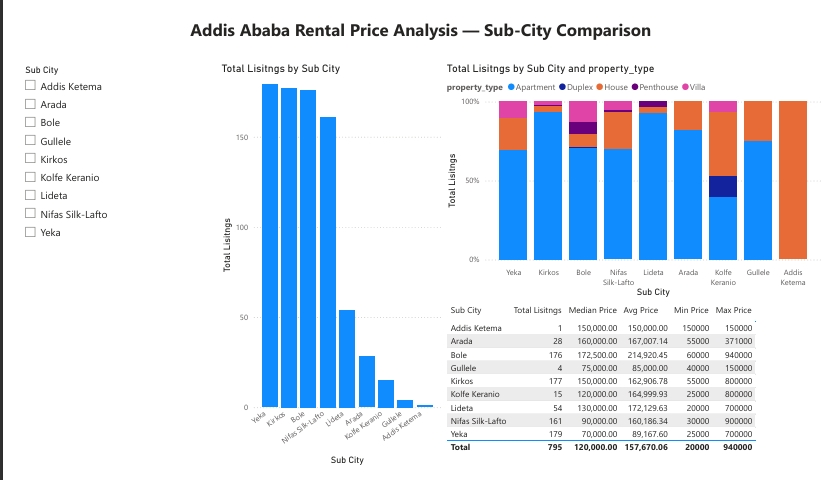

Layout of this report page (visuals, bound fields, positions):
{"tool":"powerbi","page":{"name":"Sub-City Comparision","canvas":[1280,720],"ordinal":1},"visuals":[{"type":"slicer","fields":{"Values":["clean_listings (2).Sub City"]},"box":[0,75.6,318.6,644.1],"z":0},{"type":"clusteredColumnChart","fields":{"Category":["clean_listings (2).Sub City"],"Y":["clean_listings (2).Total Lisitngs"]},"box":[318.6,75.6,357.6,644.1],"z":1000},{"type":"hundredPercentStackedColumnChart","fields":{"Category":["clean_listings (2).Sub City"],"Y":["clean_listings (2).Total Lisitngs"],"Series":["clean_listings (2).property_type"]},"box":[676.2,75.6,602.9,378.2],"z":1001},{"type":"tableEx","fields":{"Values":["clean_listings (2).Sub City","clean_listings (2).Total Lisitngs","clean_listings (2).Median Price","clean_listings (2).Avg Price","clean_listings (2).Min Price","clean_listings (2).Max Price"]},"box":[676.2,453.9,602.9,265.9],"z":1002},{"type":"textbox","box":[0,0,1279.1,75.6],"z":1003}]}

Visuals, with their boxes in screenshot pixels (x1, y1, x2, y2), scaled from the page's 1280x720 canvas onto the 835x480 screenshot:
slicer - clean_listings (2).Sub City: pyautogui.locateOnScreen(0, 50, 208, 479)
clusteredColumnChart - clean_listings (2).Sub City x clean_listings (2).Total Lisitngs: pyautogui.locateOnScreen(208, 50, 441, 479)
hundredPercentStackedColumnChart - clean_listings (2).Sub City x clean_listings (2).Total Lisitngs: pyautogui.locateOnScreen(441, 50, 834, 303)
tableEx - clean_listings (2).Sub City x clean_listings (2).Total Lisitngs: pyautogui.locateOnScreen(441, 303, 834, 479)
textbox: pyautogui.locateOnScreen(0, 0, 834, 50)
